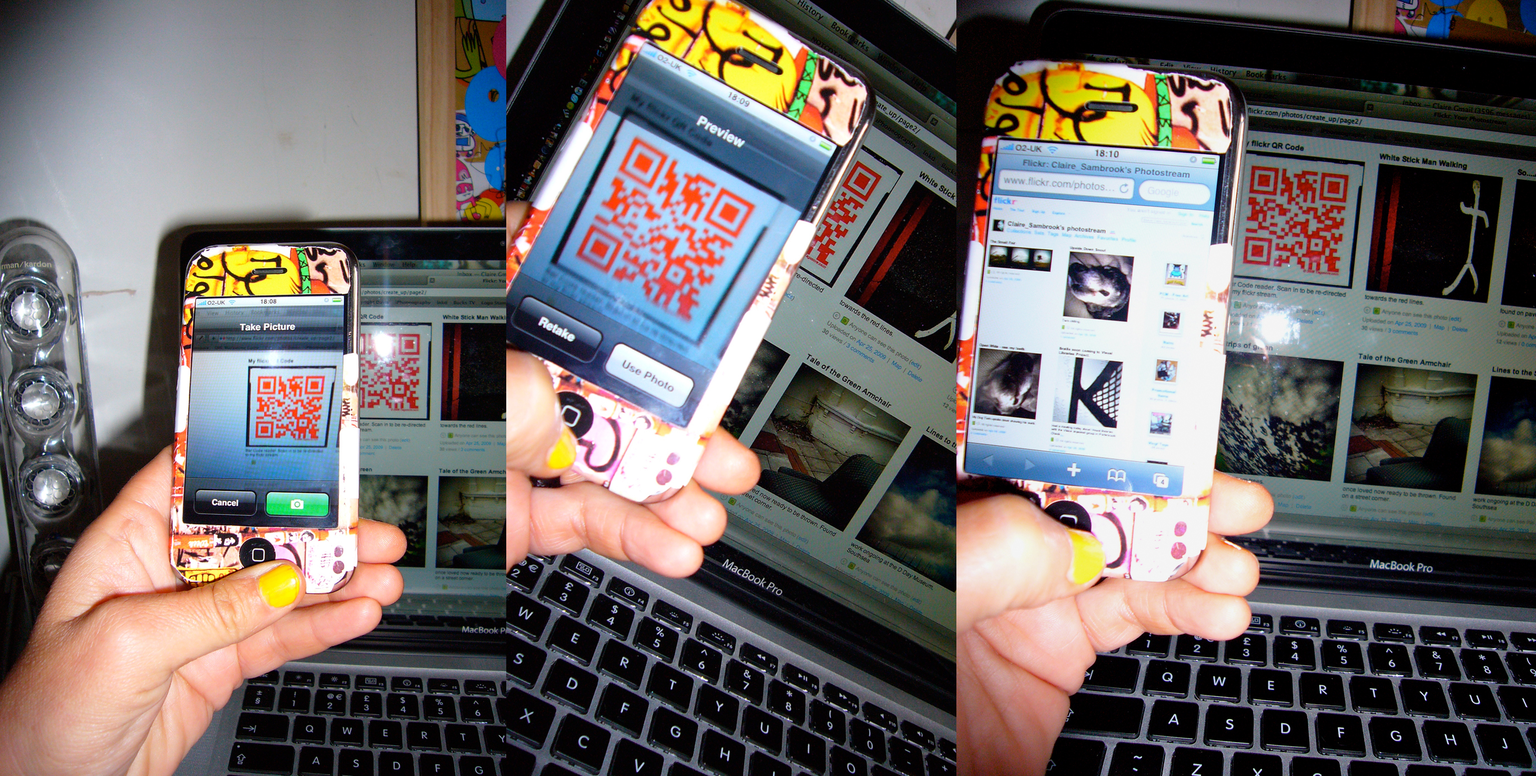QR-CODE: (575, 136, 755, 322), (1243, 165, 1349, 272), (806, 158, 882, 266), (360, 334, 420, 409), (255, 375, 325, 439)
